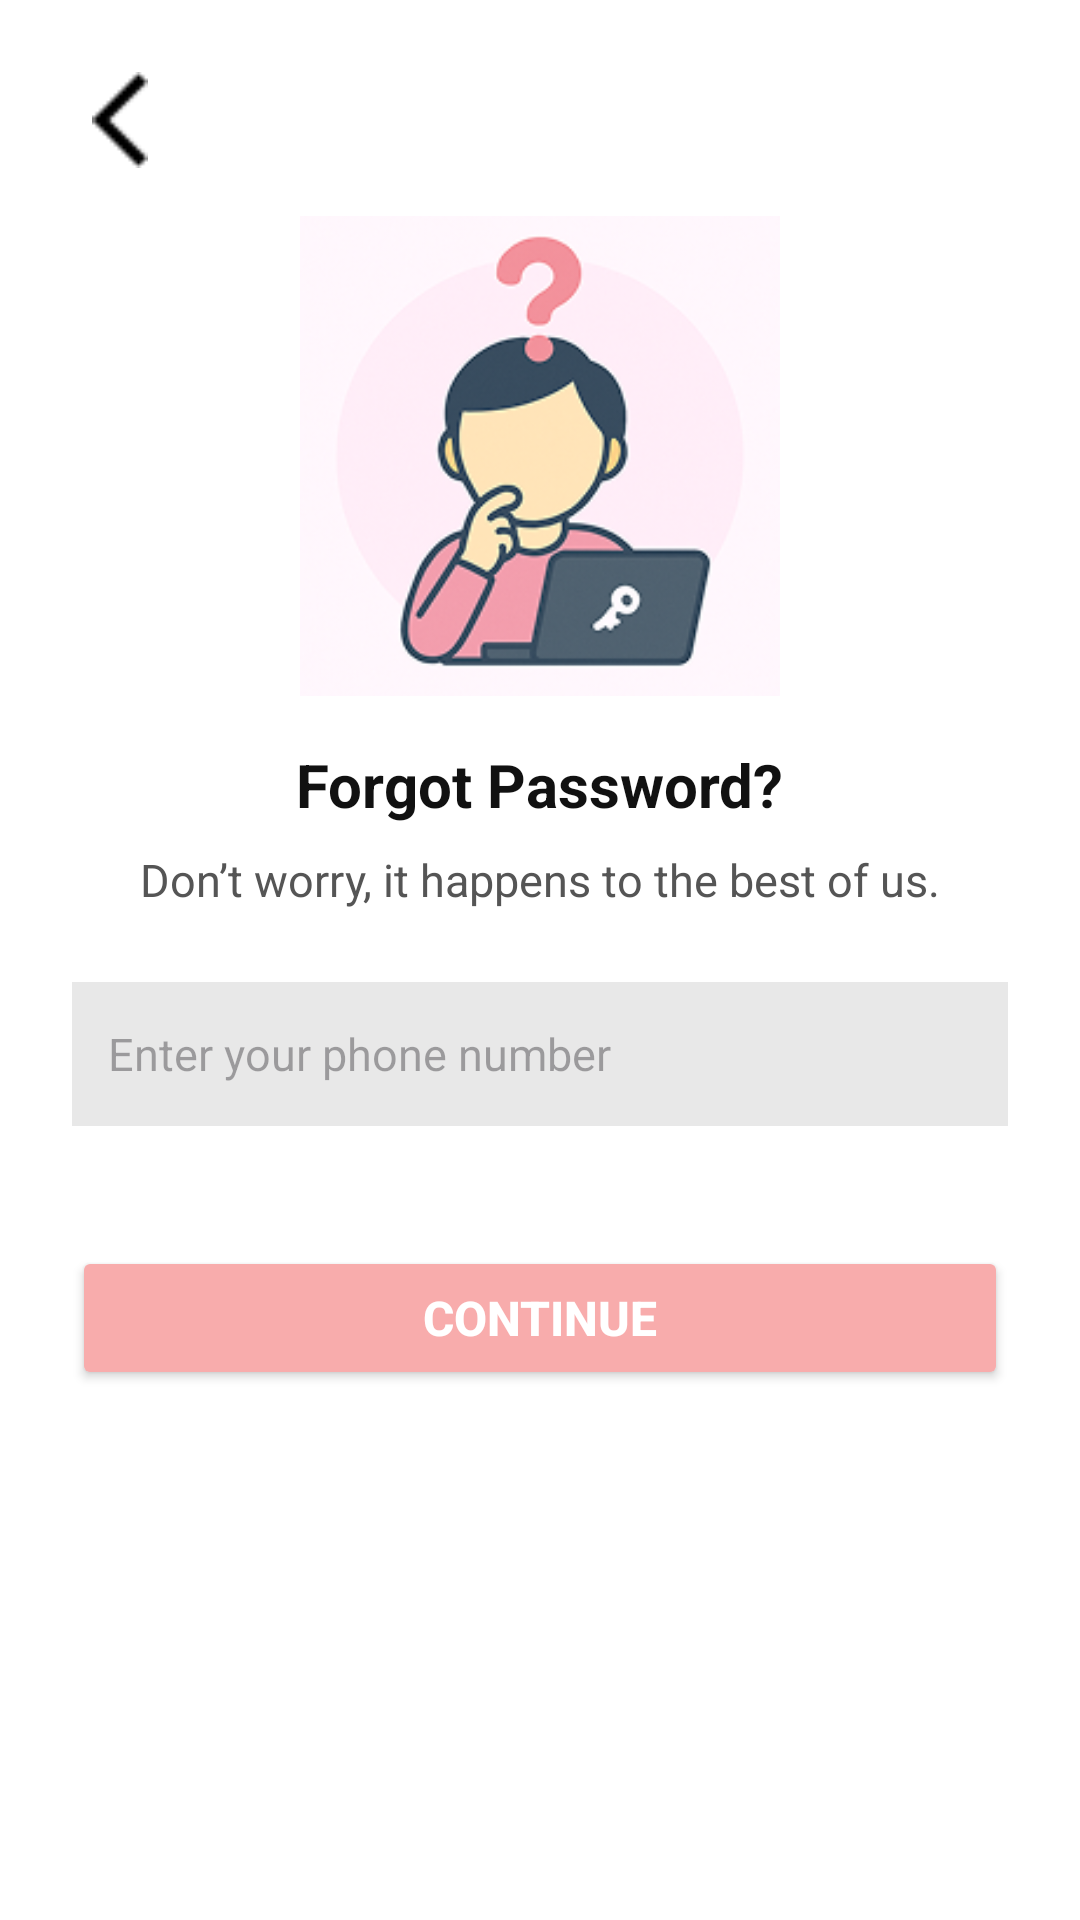

Where to tap for icons on this 1080w x 1920h app screen, as [x,y]:
Back: [120,120]
